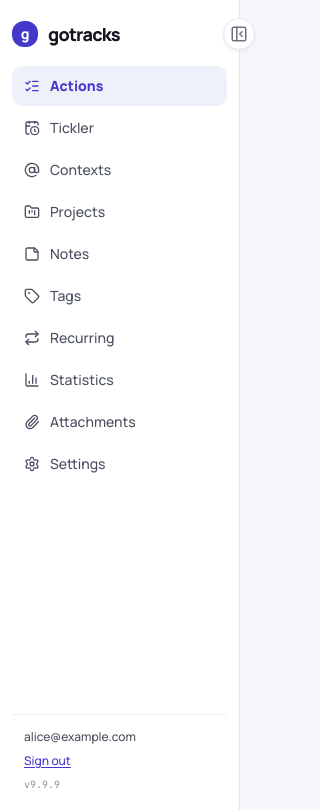
collapsing the sidebar › drops the labels and the account block when collapsed
Click the button named "Collapse menu" at (239, 34), box [223, 18, 255, 50]
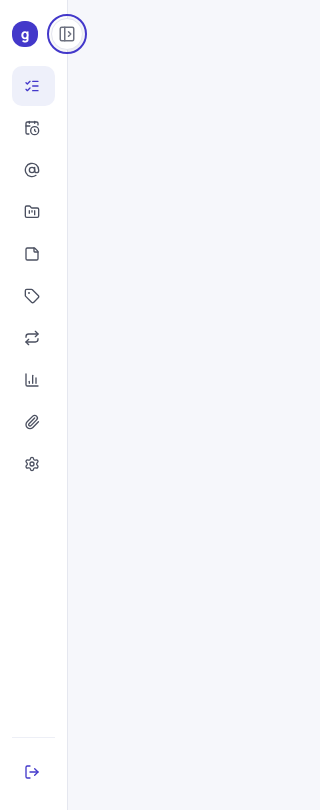
Expected: the text "v9.9.9" is gone
Expected: the button named "Sign out" is shown, [12, 752, 55, 792]
